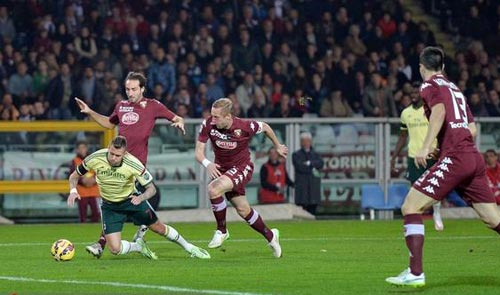ball: (49, 238, 75, 262)
